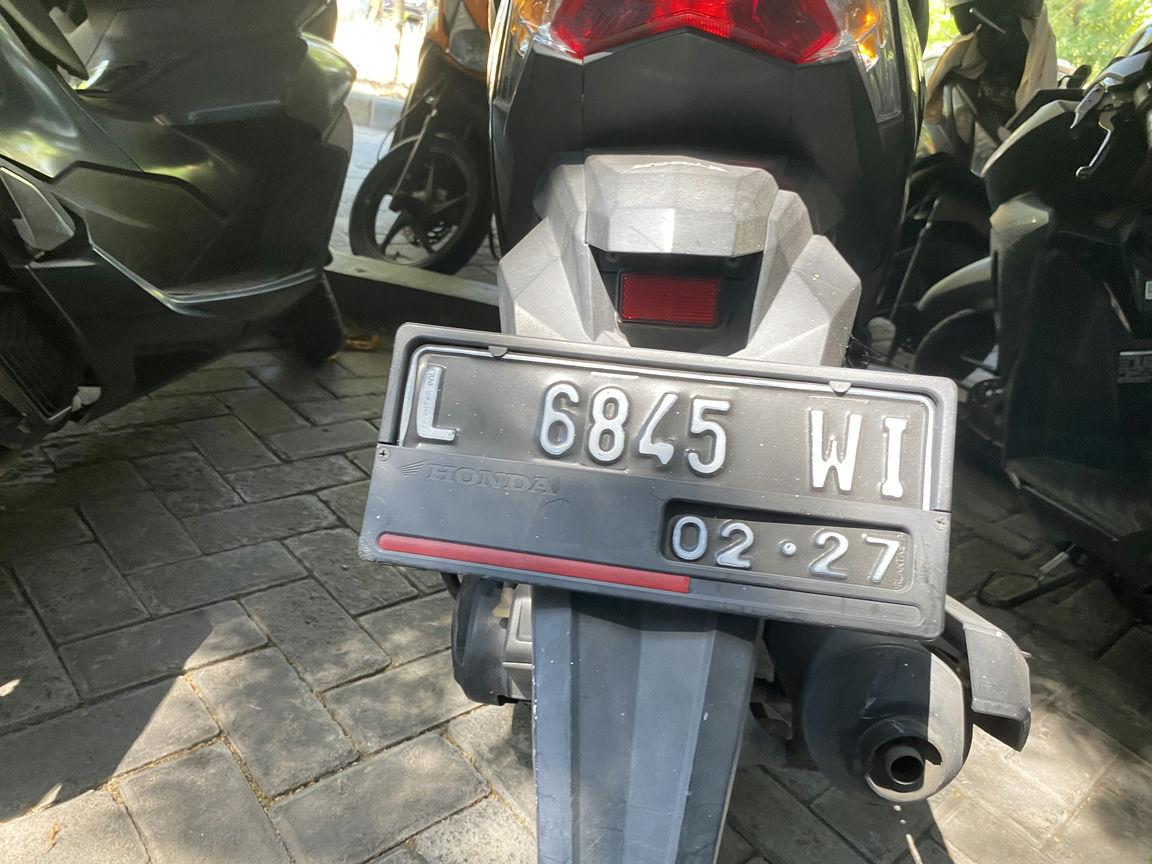plat: (360, 324, 954, 639)
